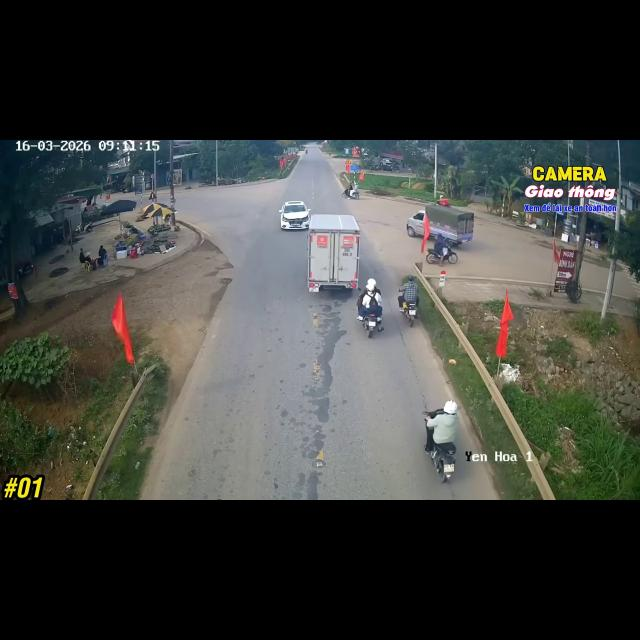car: (280, 201, 310, 229)
motorcycle: (429, 443, 456, 482), (403, 301, 417, 327), (362, 315, 378, 337), (442, 242, 457, 263), (75, 222, 93, 235), (342, 191, 359, 199), (304, 150, 308, 154)
truck: (308, 214, 360, 291), (407, 205, 473, 244)
